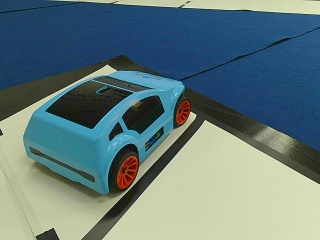car: (21, 69, 193, 196)
